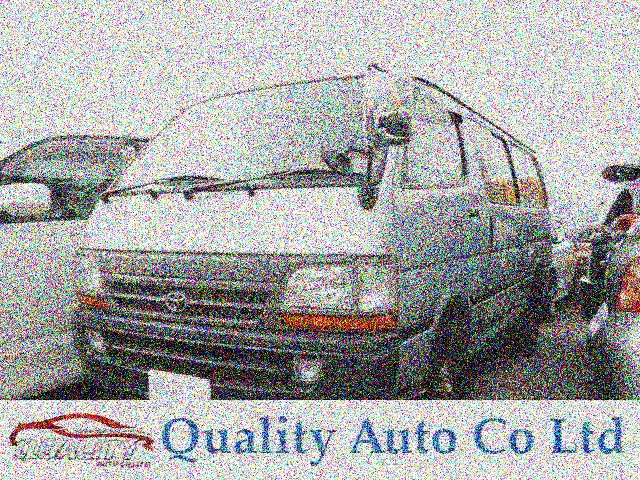van: (78, 68, 562, 408)
